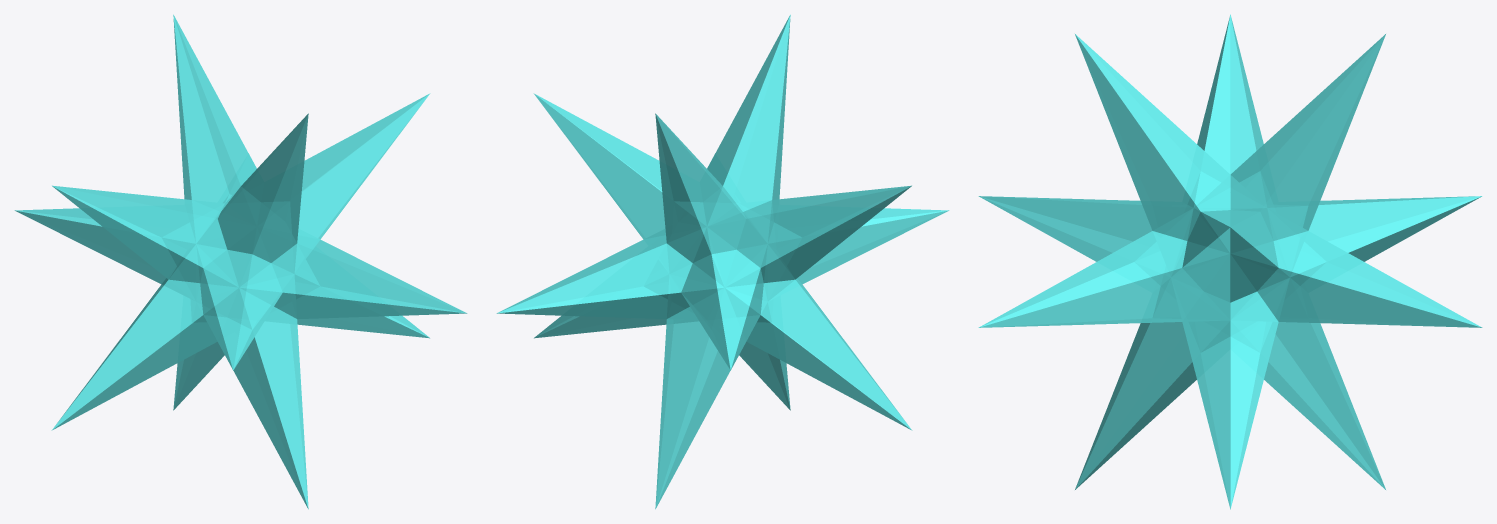
The model's file is GreatTriambicIcosahedron.obj.
3 renders of one model, left to right at view 1: azimuth 30°, elevation 25°; view 2: azimuth 150°, elevation 25°; view 3: azimuth 270°, elevation 25°, orthographic. The views are drawn at different scales.
Size of the model in its own units: 5.24 by 5.24 by 5.24.
